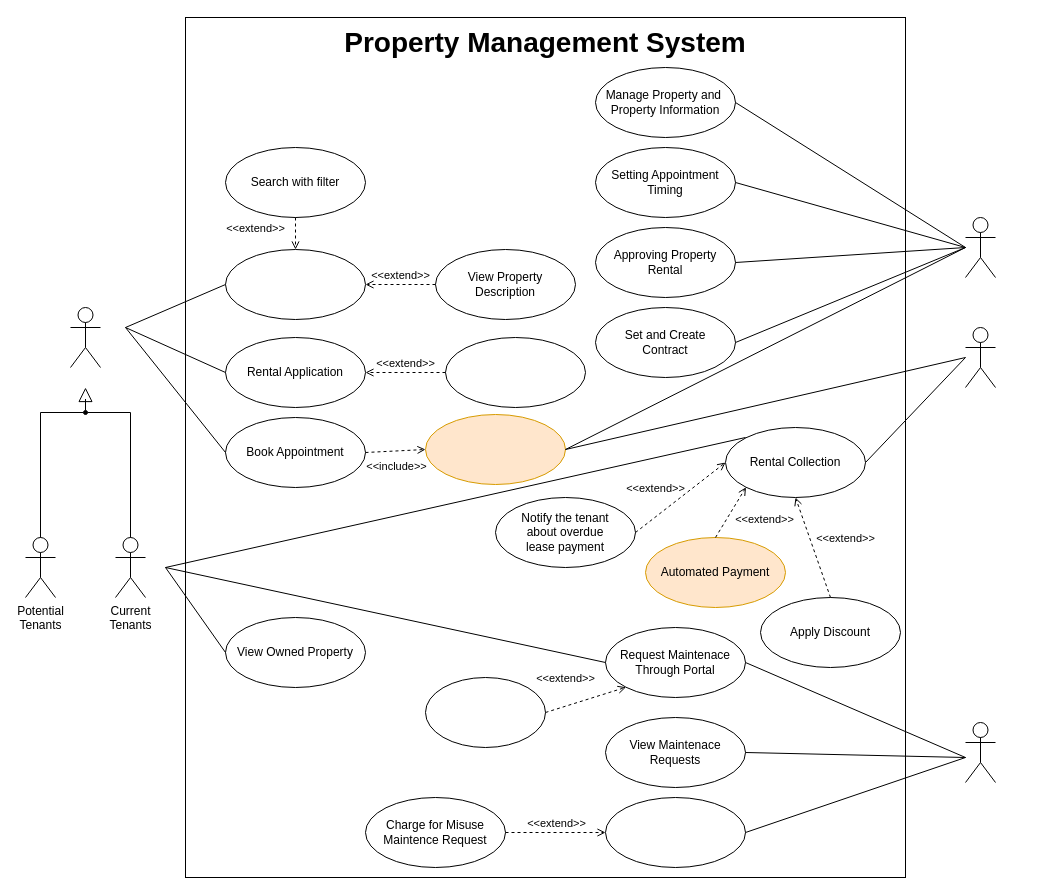
This 1060x895 diagram has some shape labels left out. The centre of each missing label's shape, as x and y in pixels:
Browsing Property: point 295,284
Complete Maintenace Request: point 675,832
Emergency Requests: point 485,712
Leasing Agencies: point 980,247
Maintenace Employees: point 980,752
NotifyAgentAndTenant: point 495,449
Renew Lease Applications: point 515,372
Robot Automator: point 980,357
Tenant: point 85,337
